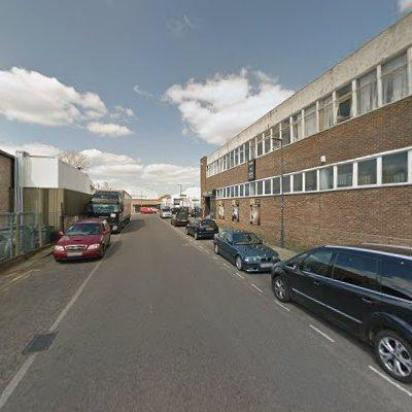stationary-car-onstreet: (266, 240, 412, 386), (211, 226, 281, 278), (52, 215, 112, 265), (184, 216, 221, 240), (169, 212, 189, 226), (158, 208, 172, 218)
stationary-heavy-truck-onstreet: (83, 186, 133, 232)
